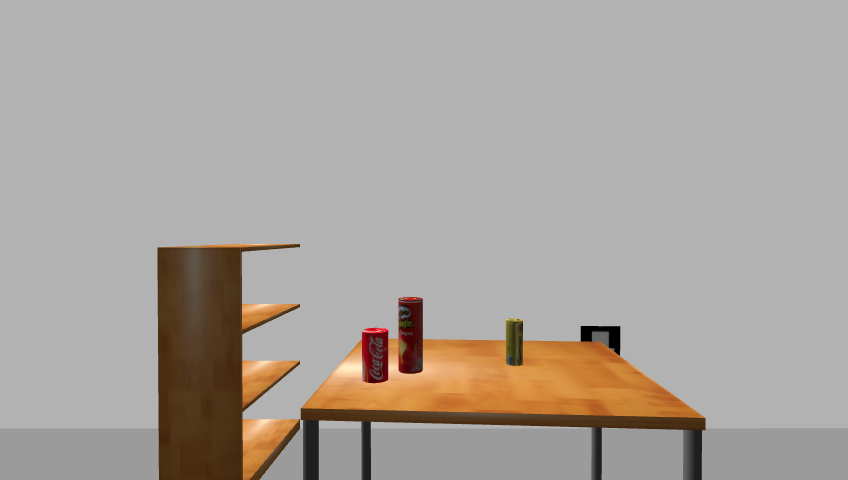aruco marker: (577, 324, 625, 362)
biscuits pack: (504, 318, 525, 368)
bookshelf: (153, 242, 307, 480)
coke can: (359, 328, 390, 384)
dinner table: (294, 338, 714, 479)
pringles can: (396, 296, 425, 376)
